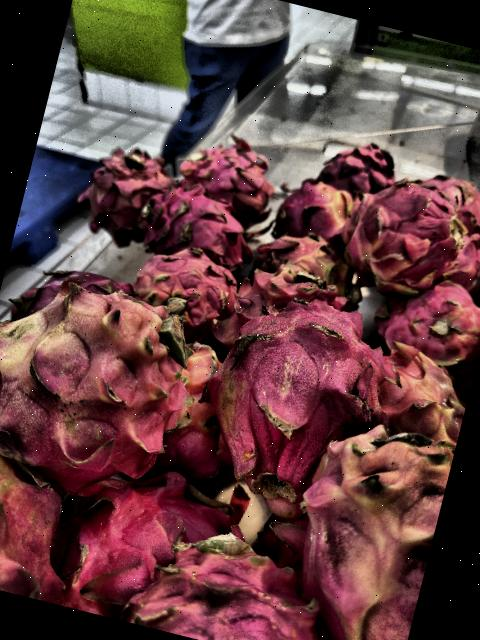buah-naga-belum-matang: (0, 273, 211, 497), (266, 410, 456, 640), (0, 429, 87, 602), (363, 334, 478, 445), (262, 162, 362, 254), (256, 223, 368, 299)
buah-naga-matang: (206, 290, 392, 499), (134, 517, 349, 640), (73, 469, 220, 600), (337, 168, 465, 296), (122, 232, 251, 334), (372, 269, 480, 379), (75, 138, 171, 250), (134, 180, 255, 264), (172, 134, 280, 226), (246, 256, 349, 326), (313, 132, 406, 203)
